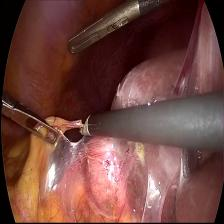Grasper: (63, 0, 141, 57), (2, 91, 60, 152)
Hook: (74, 104, 94, 145)
